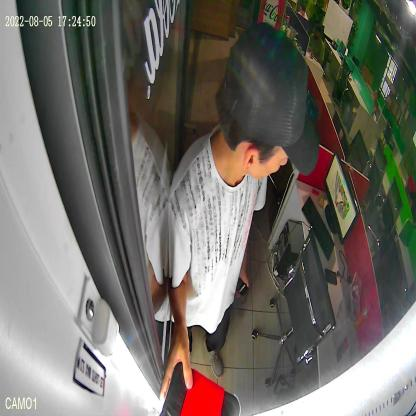red: (158, 361, 242, 416)
